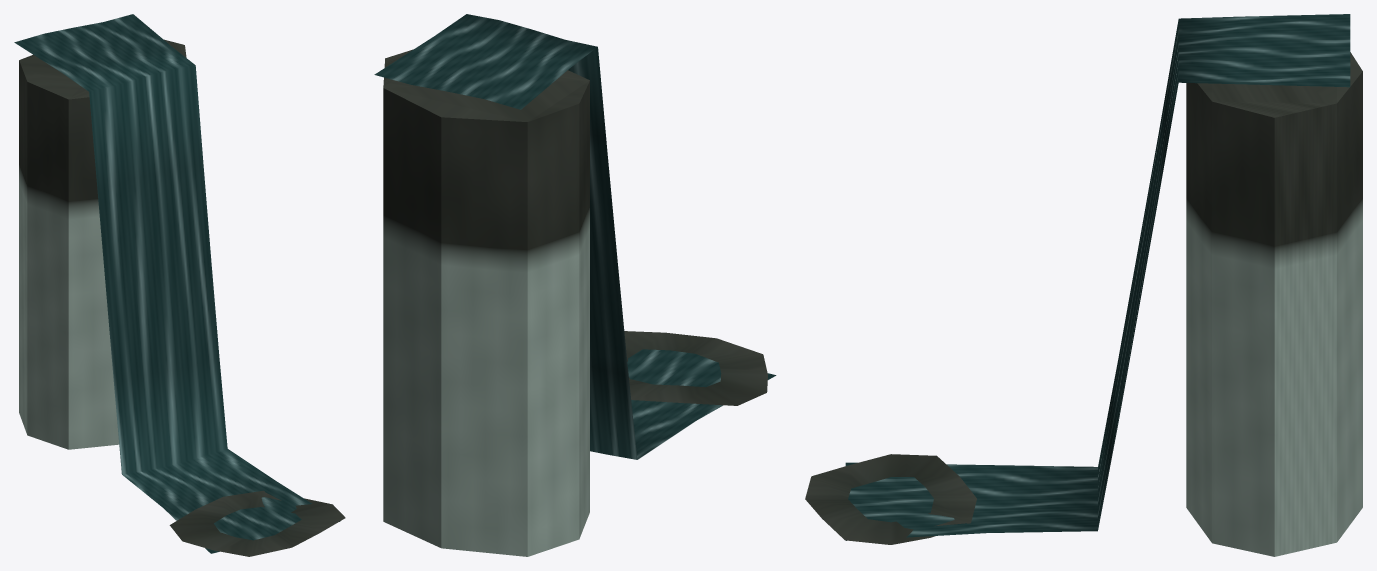
Rendered from fall-narrow-lod1.glb.
3 renders of one model, left to right at view 1: azimuth 30°, elevation 25°; view 2: azimuth 150°, elevation 25°; view 3: azimuth 270°, elevation 25°, orthographic. The views are drawn at different scales.
Bounding box in the file's own units: 0.4499 × 1 × 1.11.
1 material, 1 textured.
